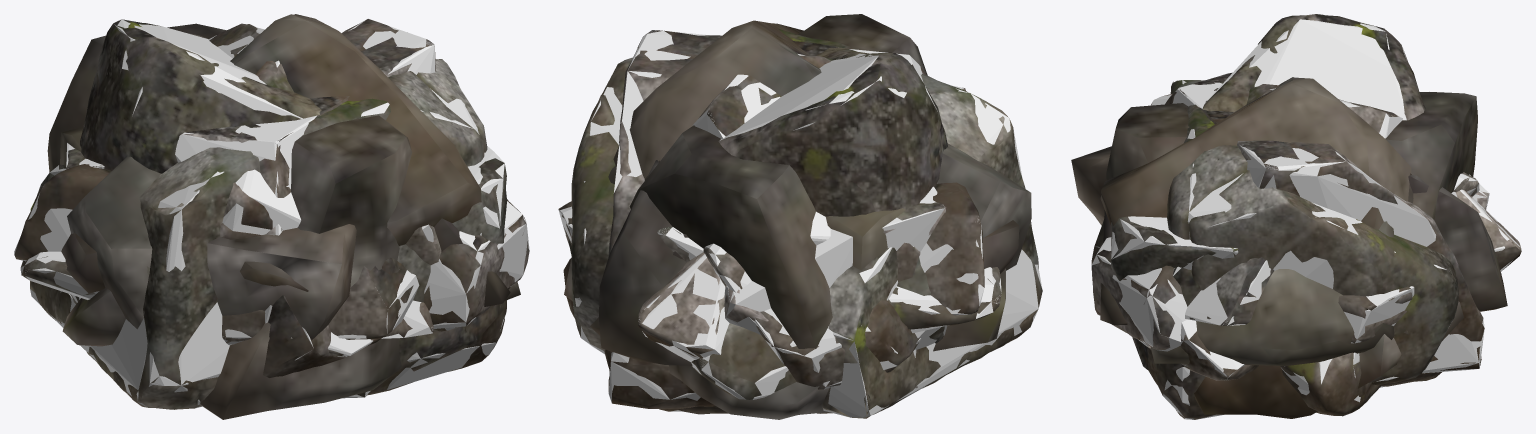
The model's file is rocks.glb.
The picture shows the model from 3 angles, left to right: view 1: azimuth 30°, elevation 25°; view 2: azimuth 150°, elevation 25°; view 3: azimuth 270°, elevation 25°; orthographic projection. The views are drawn at different scales.
Parts seen in each view (by area): view 1: pebble_3, pebble_2, rock_0, rock_6, pebble_5, rock_hull_0, rock_5, rock_hull_6, rock_hull_5, rock_hull_1, rock_3, rock_1 (+13 smaller); view 2: pebble_3, rock_6, rock_0, pebble_2, pebble_0, rock_hull_0, rock_5, rock_8, rock_9, rock_7, rock_hull_1, rock_hull_5 (+14 smaller); view 3: rock_0, pebble_2, pebble_3, pebble_4, rock_hull_6, rock_hull_5, rock_6, rock_5, pebble_0, rock_4, rock_1, rock_hull_1 (+13 smaller).
Boxes of the visible parts, left/top/right/bottom form: pebble_3: left=47, top=23, right=412, bottom=419; pebble_2: left=67, top=14, right=481, bottom=409; rock_0: left=30, top=59, right=487, bottom=409; rock_6: left=60, top=19, right=506, bottom=395; pebble_5: left=62, top=224, right=356, bottom=346; rock_hull_0: left=30, top=88, right=480, bottom=407; rock_5: left=178, top=19, right=435, bottom=377; rock_hull_6: left=60, top=19, right=505, bottom=389; rock_hull_5: left=175, top=20, right=435, bottom=360; rock_hull_1: left=66, top=143, right=529, bottom=328; rock_3: left=328, top=260, right=413, bottom=339; rock_1: left=66, top=149, right=529, bottom=325; pebble_3: left=629, top=14, right=927, bottom=348; rock_6: left=659, top=47, right=947, bottom=414; rock_0: left=571, top=29, right=1042, bottom=418; pebble_2: left=564, top=20, right=1031, bottom=419; pebble_0: left=599, top=160, right=692, bottom=365; rock_hull_0: left=575, top=87, right=1042, bottom=417; rock_5: left=605, top=30, right=925, bottom=409; rock_8: left=558, top=182, right=984, bottom=314; rock_9: left=703, top=248, right=919, bottom=390; rock_7: left=691, top=257, right=944, bottom=399; rock_hull_1: left=724, top=186, right=945, bottom=335; rock_hull_5: left=608, top=30, right=923, bottom=402; rock_0: left=1167, top=80, right=1458, bottom=385; pebble_2: left=1100, top=77, right=1411, bottom=418; pebble_3: left=1106, top=92, right=1477, bottom=219; pebble_4: left=1151, top=221, right=1394, bottom=365; rock_hull_6: left=1157, top=18, right=1406, bottom=419; rock_hull_5: left=1172, top=82, right=1484, bottom=373; rock_6: left=1132, top=14, right=1441, bottom=419; rock_5: left=1165, top=72, right=1484, bottom=373; pebble_0: left=1408, top=175, right=1507, bottom=311; rock_4: left=1151, top=84, right=1398, bottom=416; rock_1: left=1091, top=191, right=1489, bottom=349; rock_hull_1: left=1092, top=174, right=1489, bottom=351.
Size of what is drawn, in the model's own units: 1.94 by 1.41 by 1.94.
Materials: 1 (1 with a texture image).
